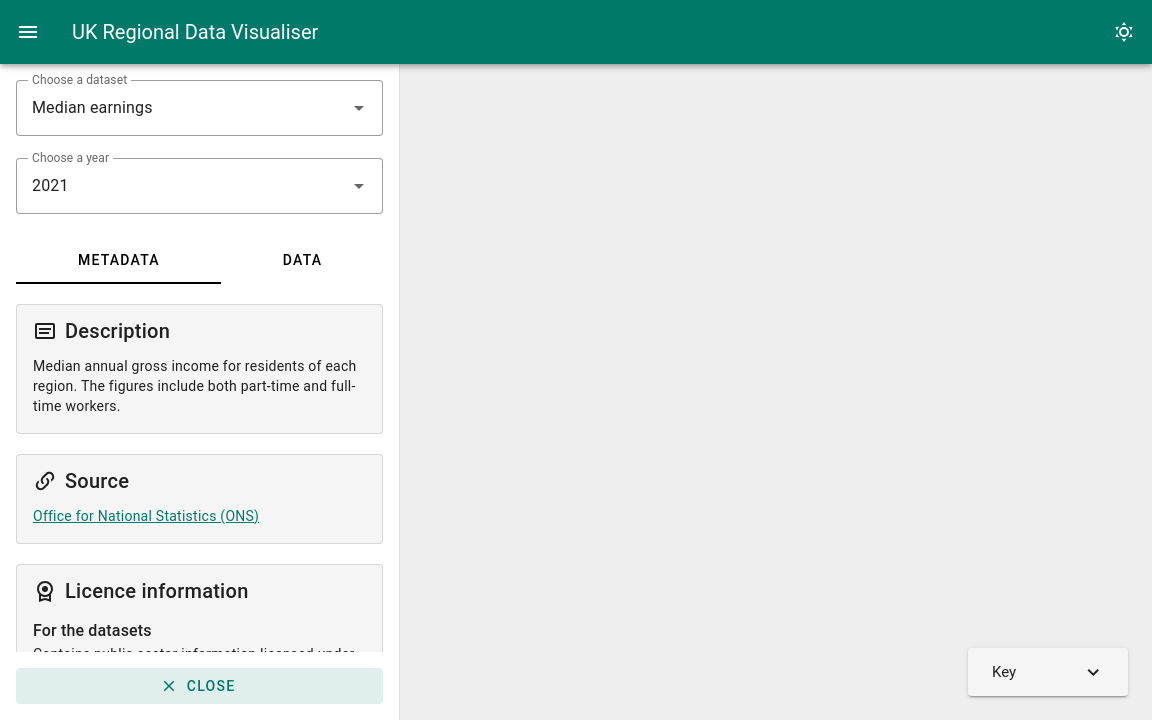
Test: Data details panel › switches to the data tab when clicked
The width and height of the screenshot is (1152, 720).
Step 1. Click the text "Data" → coordinates (303, 260), box [282,252,323,268]
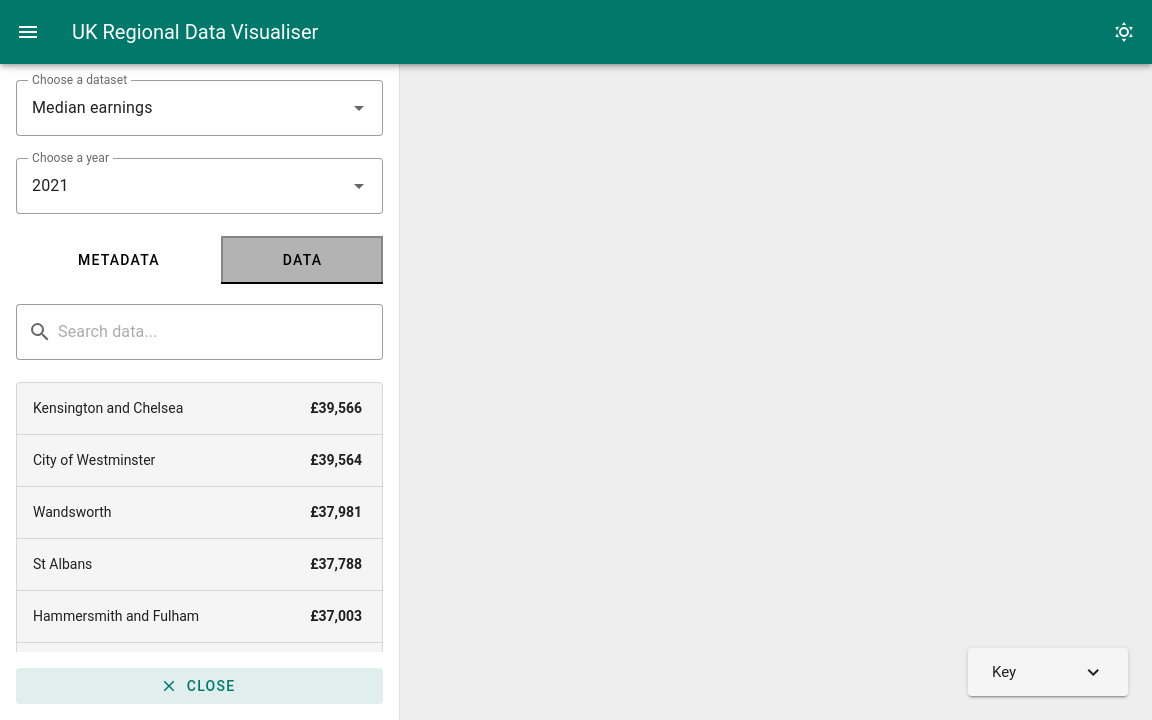
Now the element with id "data-window-item" is shown, box [16,284,383,719]
Now the field with placeholder "Search data..." is shown, box [52,304,383,360]
